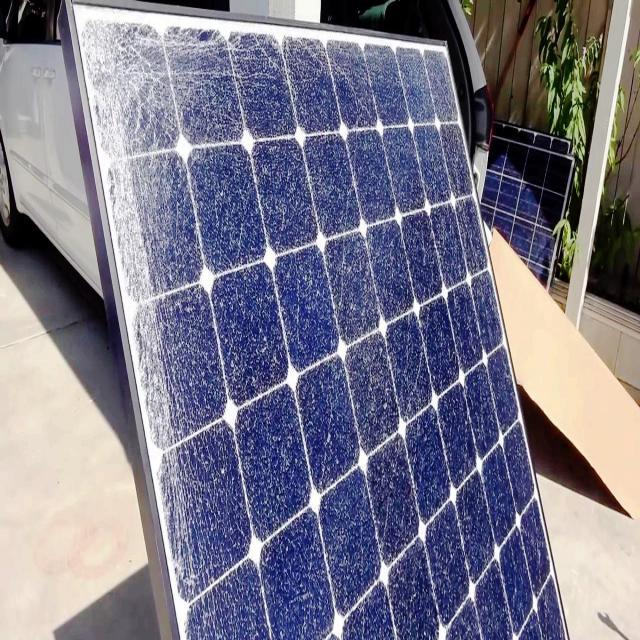faulty: (70, 2, 572, 640)
